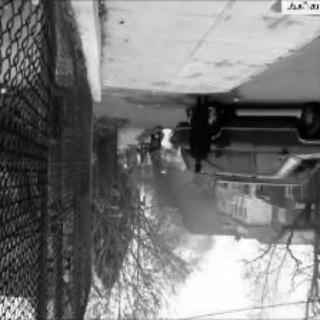Fire: (148, 129, 190, 175)
